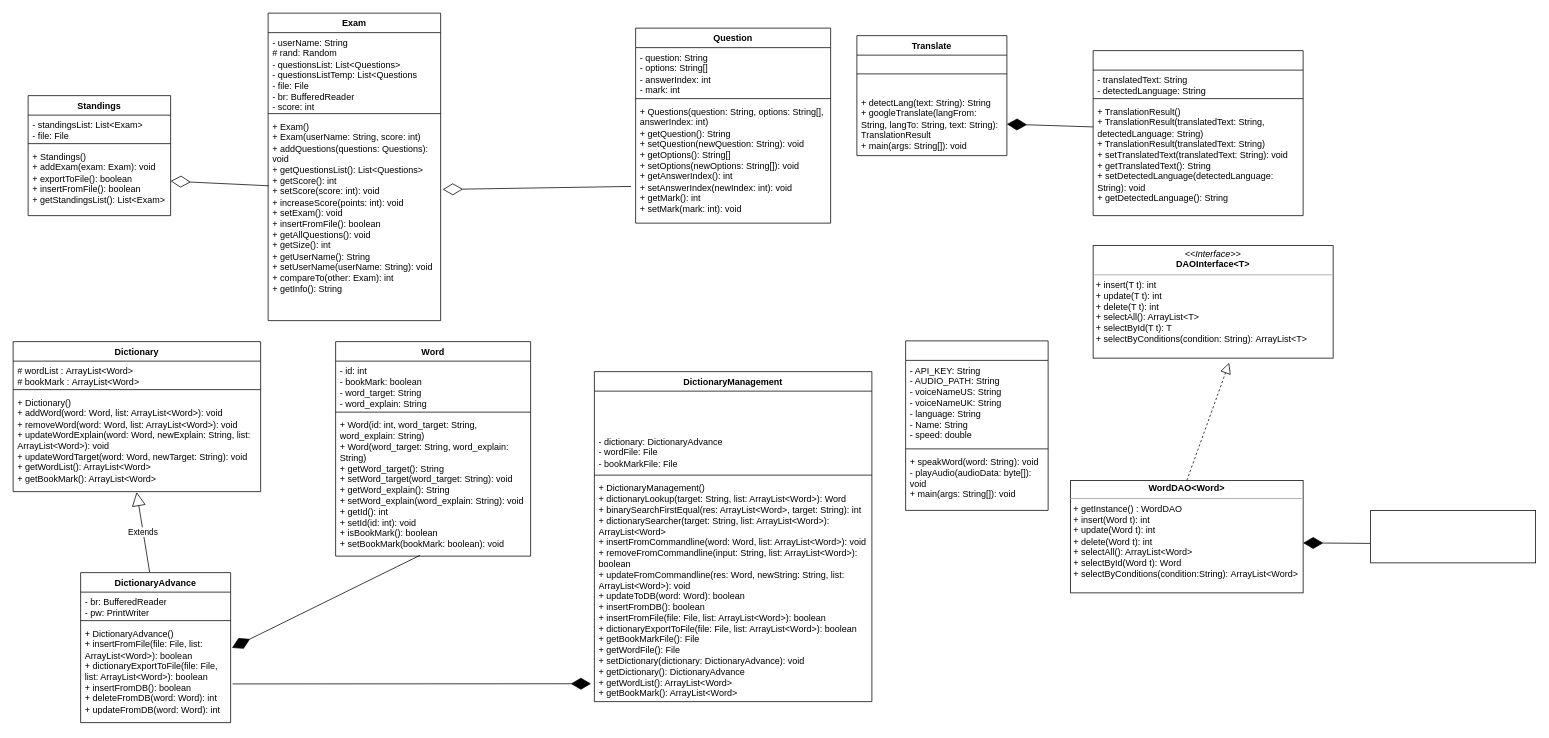
Some shapes in this 1549 by 738 pixel diagram are drawn without their labels. The shapes that lost their labels are listed below. From the top down, each one's box as (x1, y1, x2, y2) in pixels, then its label:
(1092, 50, 1303, 216): TranslateResult
(905, 340, 1048, 510): TextToSpeech
(1370, 510, 1536, 563): JDBCUtil + getConnection(): Connection + closeConnection(c: Connection): void
